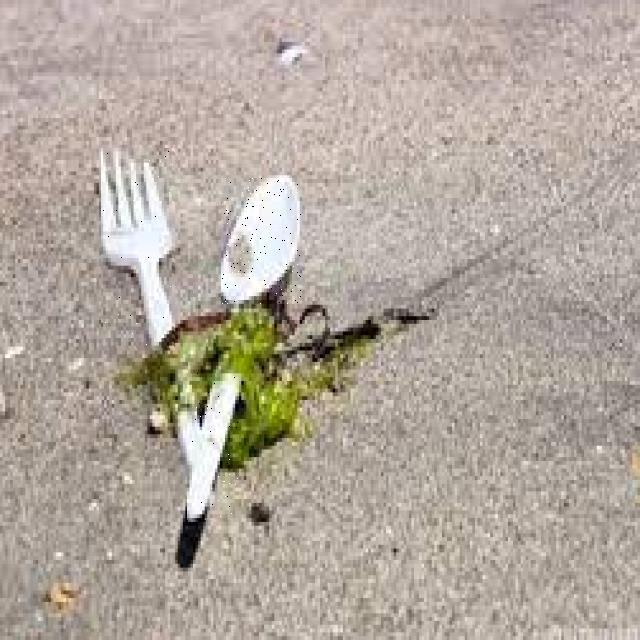plastic: (102, 148, 174, 348), (221, 179, 302, 306), (188, 374, 238, 520)
